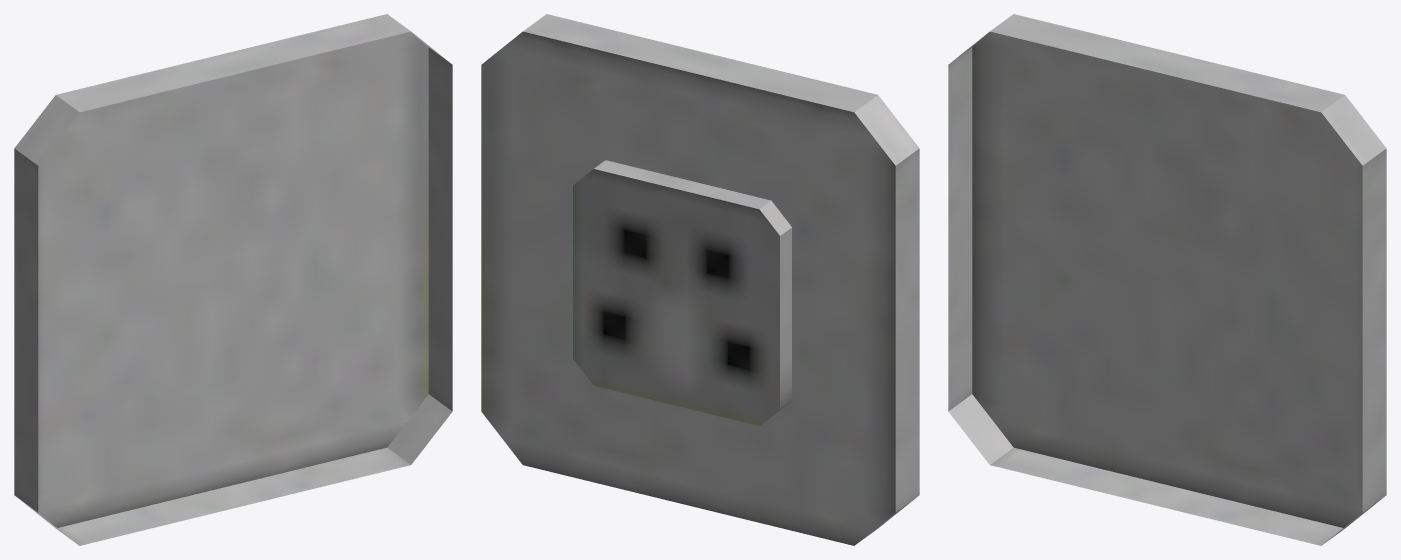
Rendered from ChipSocket.fbx.
3 renders of one model, left to right at view 1: azimuth 30°, elevation 25°; view 2: azimuth 150°, elevation 25°; view 3: azimuth 330°, elevation 25°, orthographic.
Visible parts, largest first — view 1: ChipSocket; view 2: ChipSocket; view 3: ChipSocket.
Boxes of the visible parts, left/top/right/bottom form: ChipSocket: left=14, top=14, right=452, bottom=545; ChipSocket: left=481, top=14, right=919, bottom=545; ChipSocket: left=948, top=14, right=1386, bottom=545.
Size of the model in its own units: 200 by 200 by 30.
